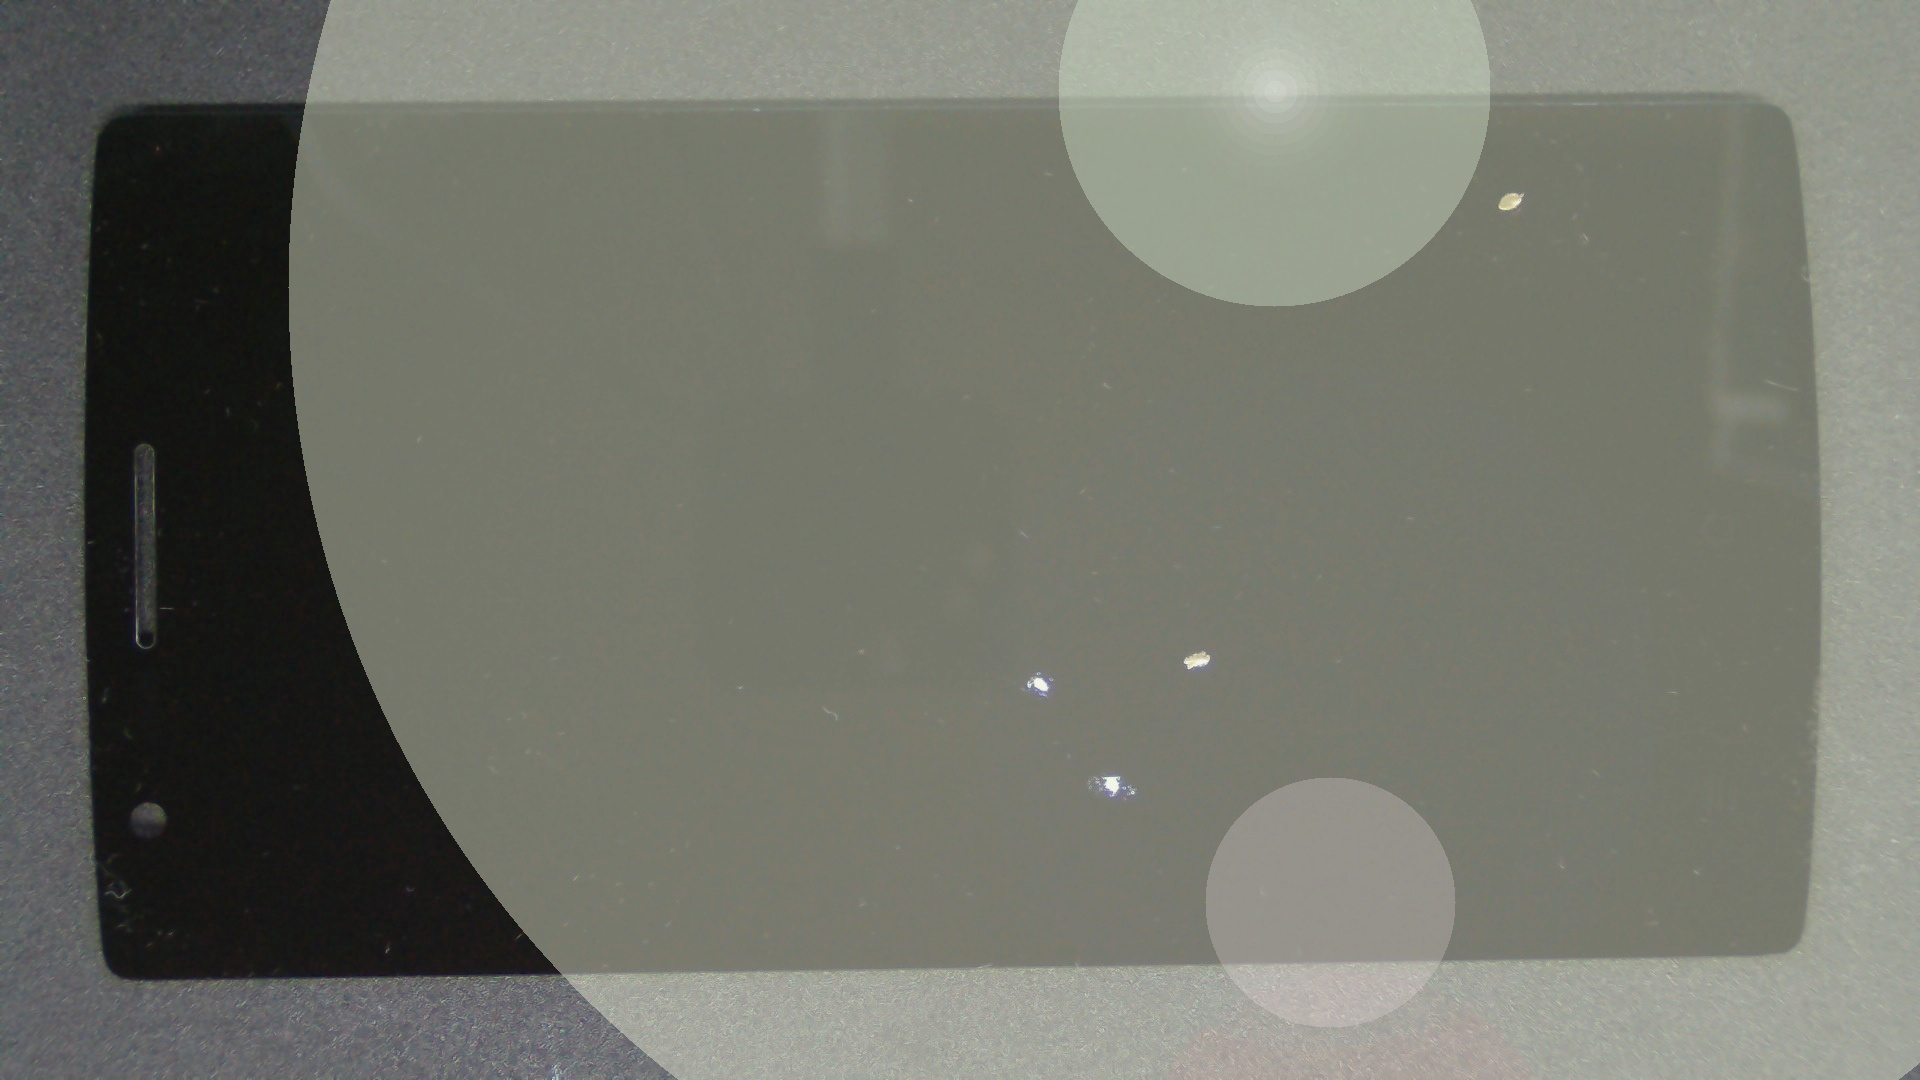oil: (601, 323, 1799, 975), (547, 385, 1635, 1080), (518, 335, 1552, 1006), (754, 95, 1920, 287)
